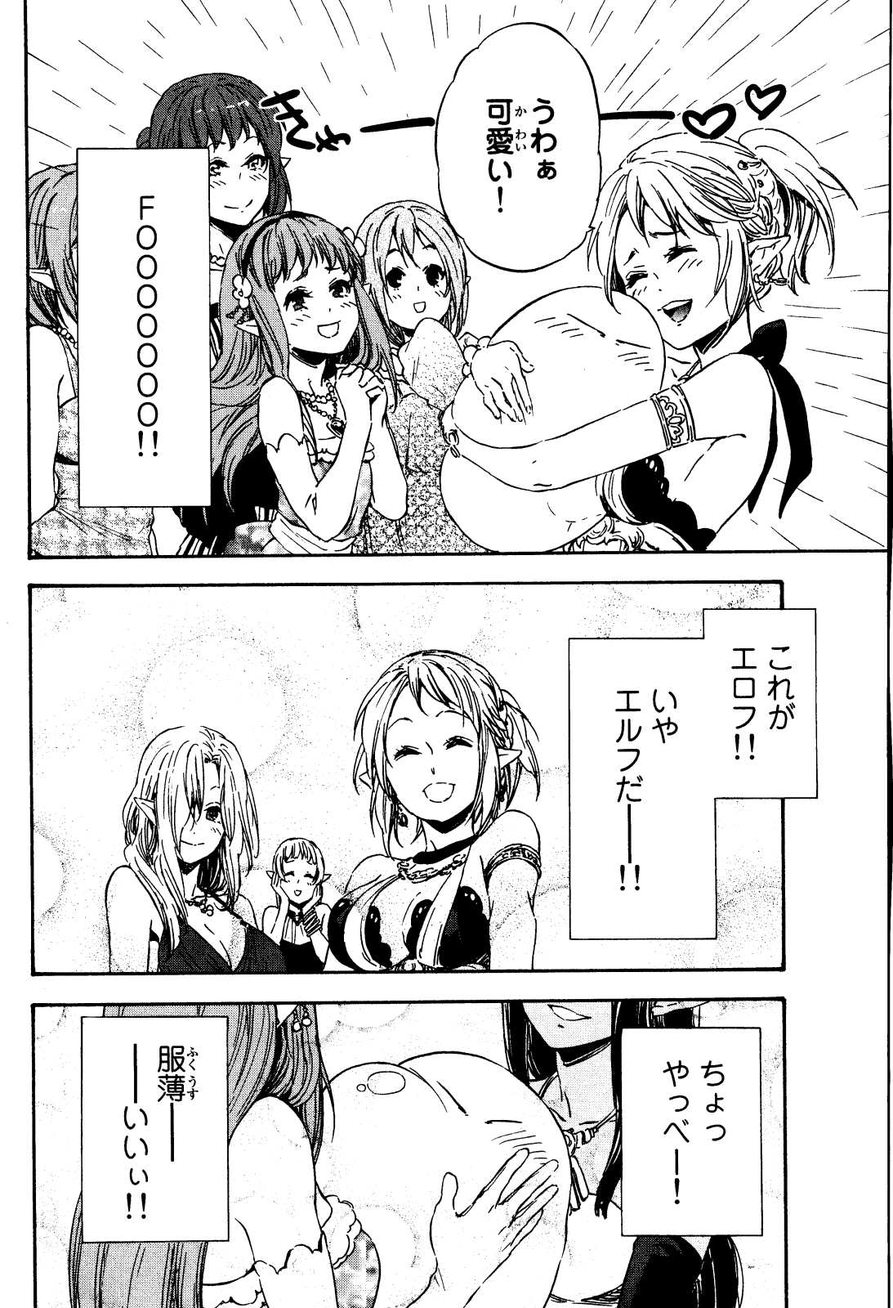bubbles: (558, 604, 828, 954), (74, 144, 217, 510), (424, 17, 612, 273), (78, 1013, 234, 1246), (614, 1023, 768, 1247)
